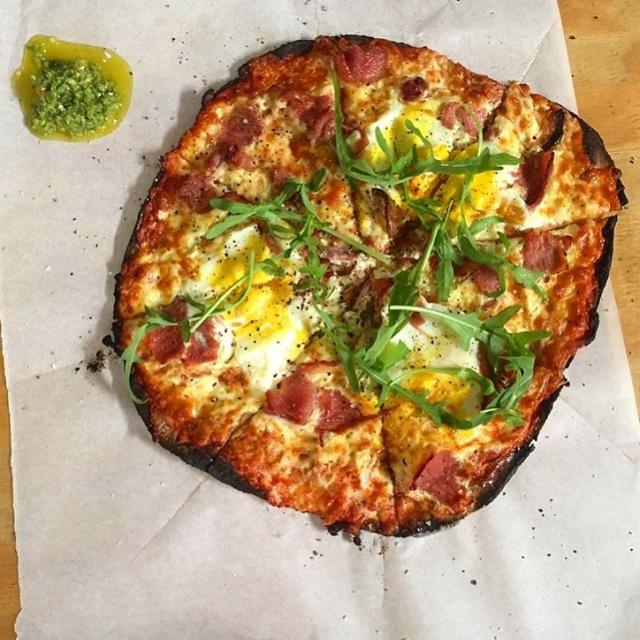pizza: (112, 36, 631, 546)
